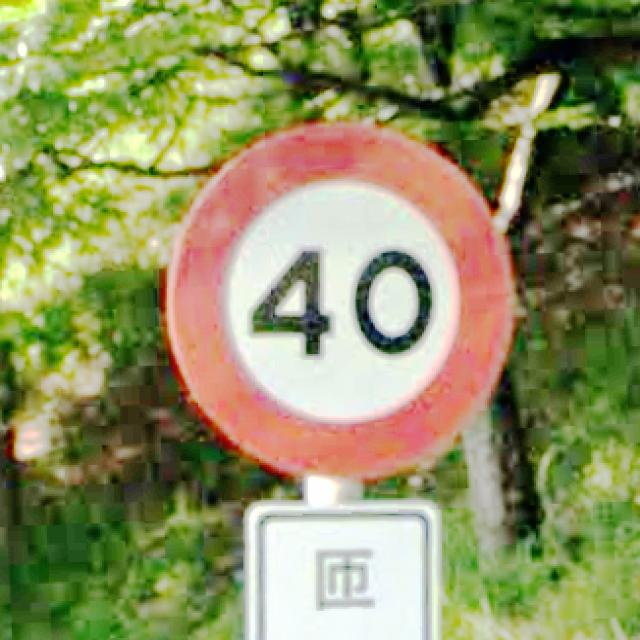max40: (161, 116, 516, 478)
